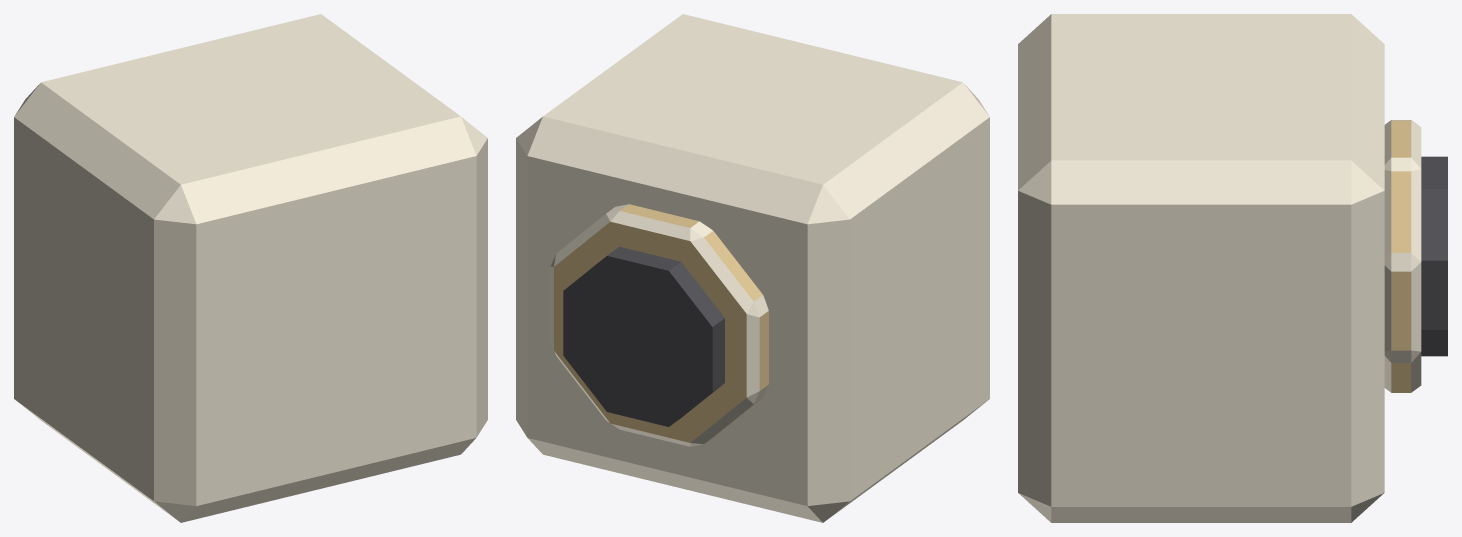
File: Lamp.fbx
3 views of the same model, side by side, from view 1: azimuth 30°, elevation 25°; view 2: azimuth 150°, elevation 25°; view 3: azimuth 270°, elevation 25° (orthographic). The views are drawn at different scales.
Parts seen in each view (by area): view 1: Lamp; view 2: Lamp, Bulb.004; view 3: Lamp, Bulb.004.
Boxes of the visible parts, box(x1,y1,x2,y2) form: Lamp: box(14, 14, 487, 522); Lamp: box(516, 14, 989, 522); Bulb.004: box(563, 246, 724, 426); Lamp: box(1018, 14, 1421, 522); Bulb.004: box(1421, 156, 1447, 356).
Size of the model in its own units: 0.62 by 0.6 by 0.645.
